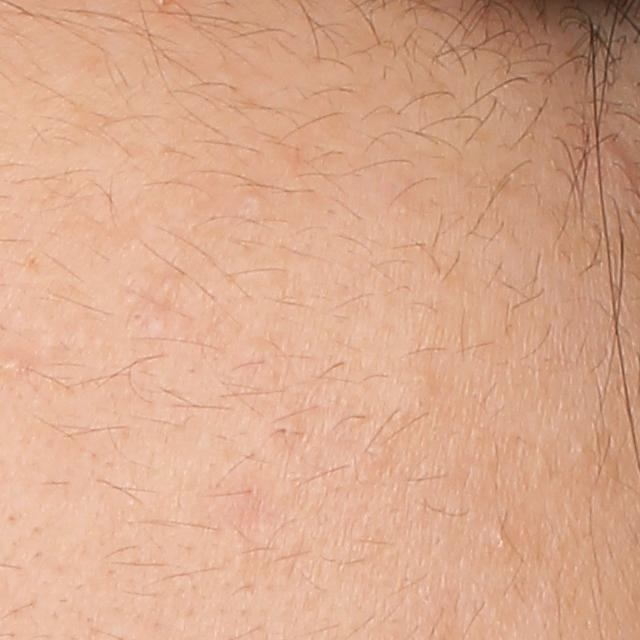comedo: (235, 189, 263, 212)
